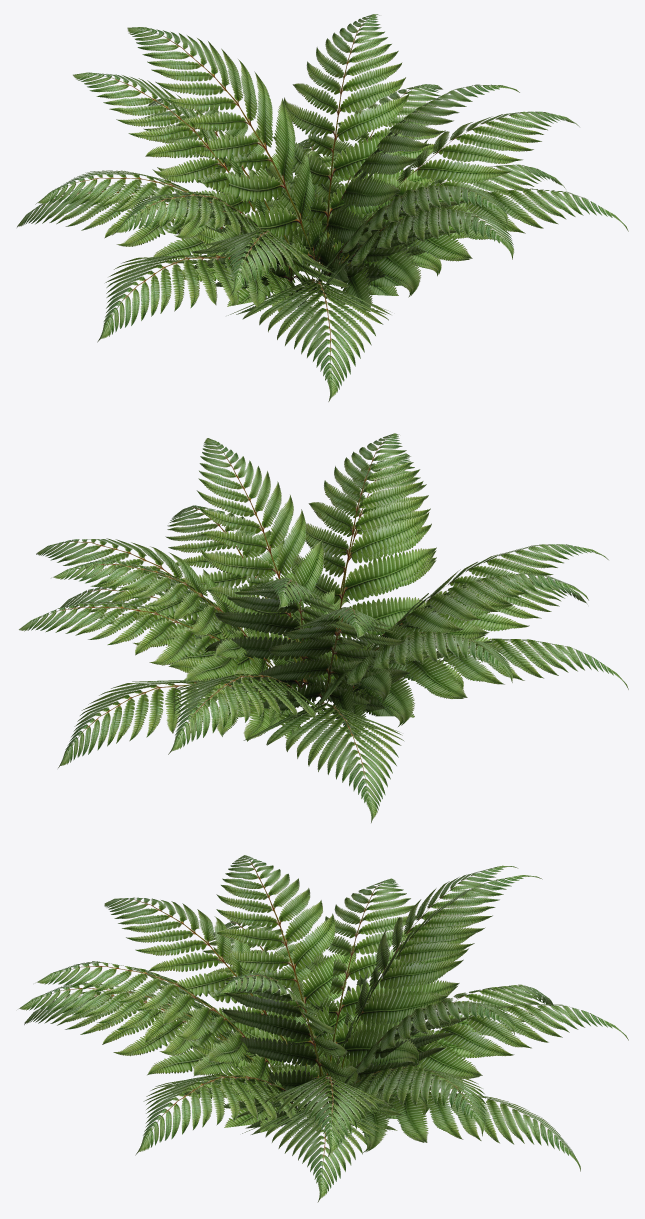
The model's file is tree10.fbx.
3 renders of one model, top to bottom at view 1: azimuth 30°, elevation 25°; view 2: azimuth 150°, elevation 25°; view 3: azimuth 270°, elevation 25°, orthographic.
Visible parts, largest first — view 1: SM_MZRa_Fern_B0522; view 2: SM_MZRa_Fern_B0522; view 3: SM_MZRa_Fern_B0522.
Boxes of the visible parts, x1,y1,x2,y2 form: SM_MZRa_Fern_B0522: (17, 14, 628, 401); SM_MZRa_Fern_B0522: (19, 433, 628, 822); SM_MZRa_Fern_B0522: (19, 855, 628, 1202).
Size of the model in its own units: 194 by 71.32 by 191.
